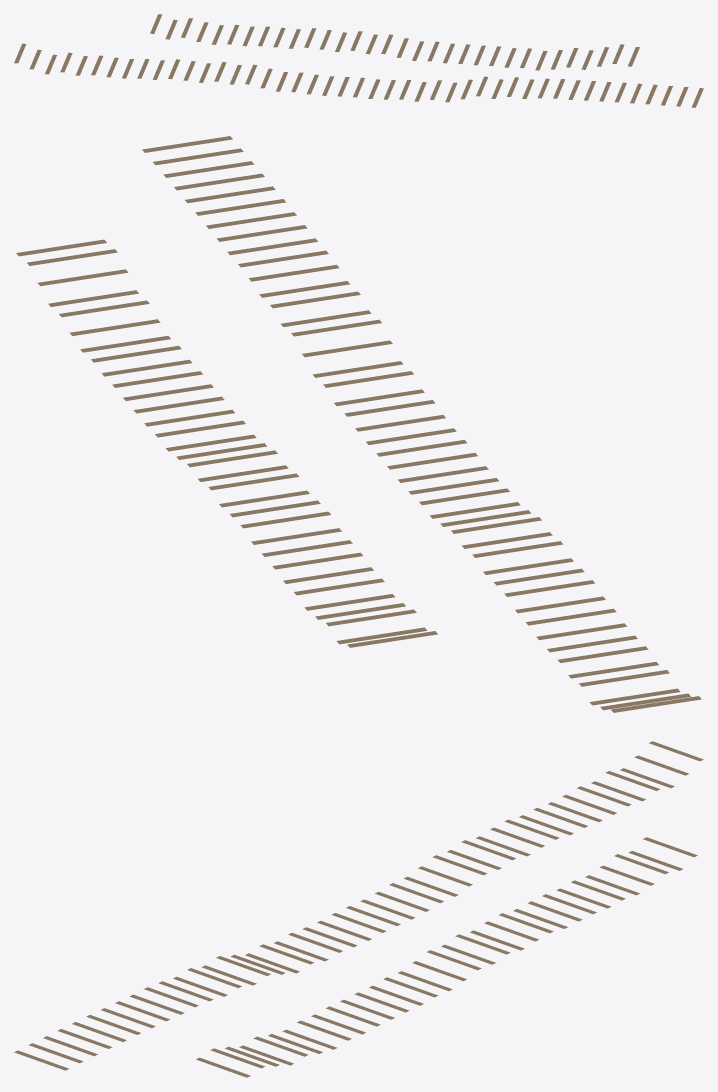
File: c_1623_17829_rail_sleeper.glb
The picture shows the model from 3 angles, top to bottom: view 1: azimuth 30°, elevation 25°; view 2: azimuth 150°, elevation 25°; view 3: azimuth 270°, elevation 25°; orthographic projection. The views are drawn at different scales.
Parts seen in each view (by area): view 1: geometry_0; view 2: geometry_0; view 3: geometry_0.
Part boxes in pixels (<box>): geometry_0: <box>14,14,703,107</box>; geometry_0: <box>16,136,701,712</box>; geometry_0: <box>14,741,703,1077</box>.
Size of the model in its own units: 28.62 by 0.9044 by 24.63.
